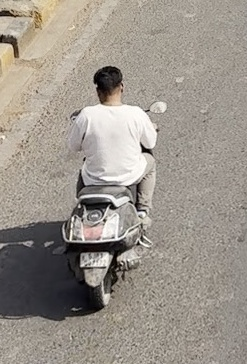BikeWithRider: (53, 60, 171, 312)
NoHelmet: (86, 61, 129, 107)
